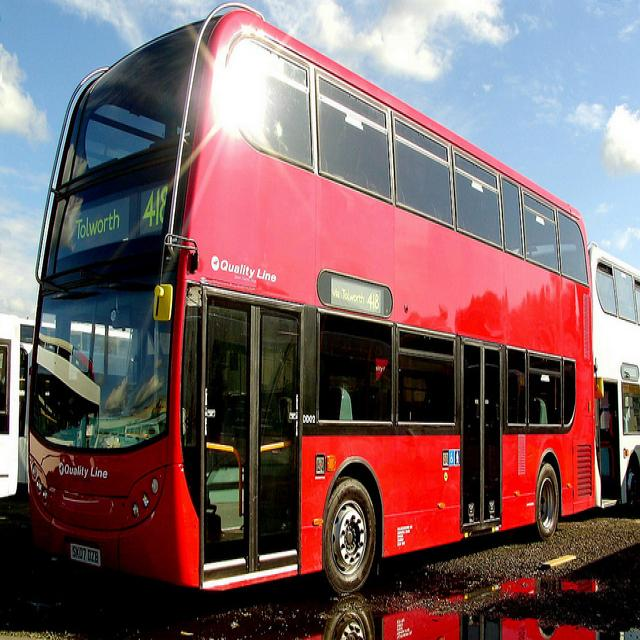Vehicle: (30, 1, 599, 600), (592, 241, 640, 513), (1, 314, 41, 506)
